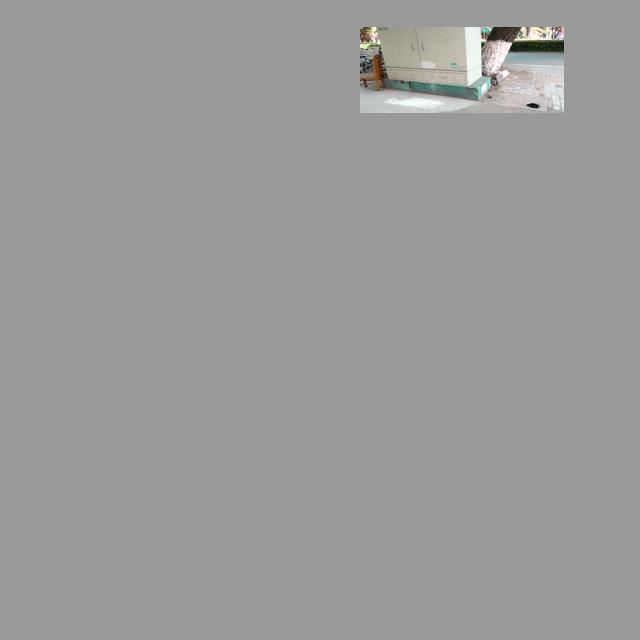broke: (484, 89, 549, 111)
